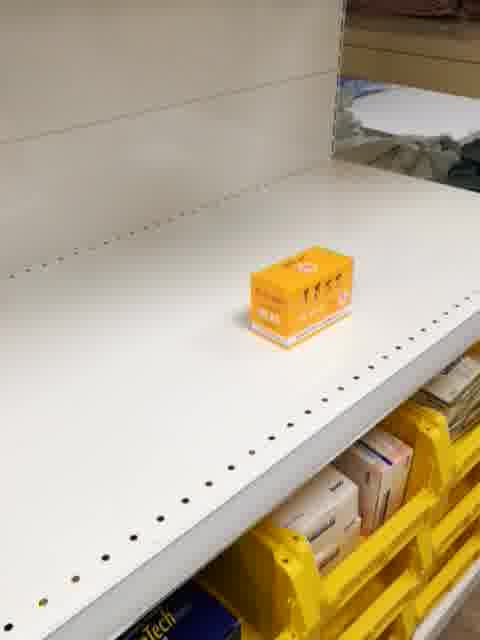jasminetea: (248, 240, 356, 352)
